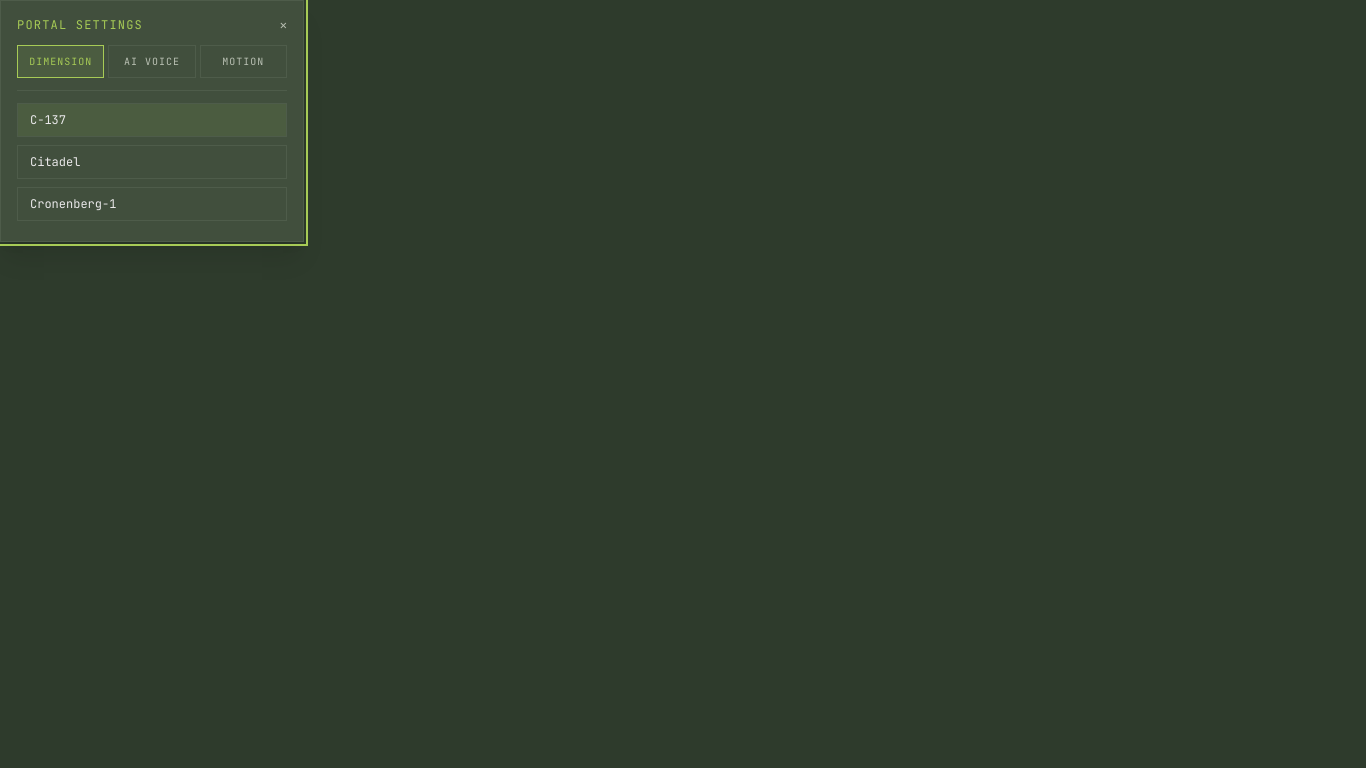
Test: SettingsPanel › turns portal transitions off, which are on by default
Click the tab "MOTION" at (243, 62), box [200, 45, 287, 78]
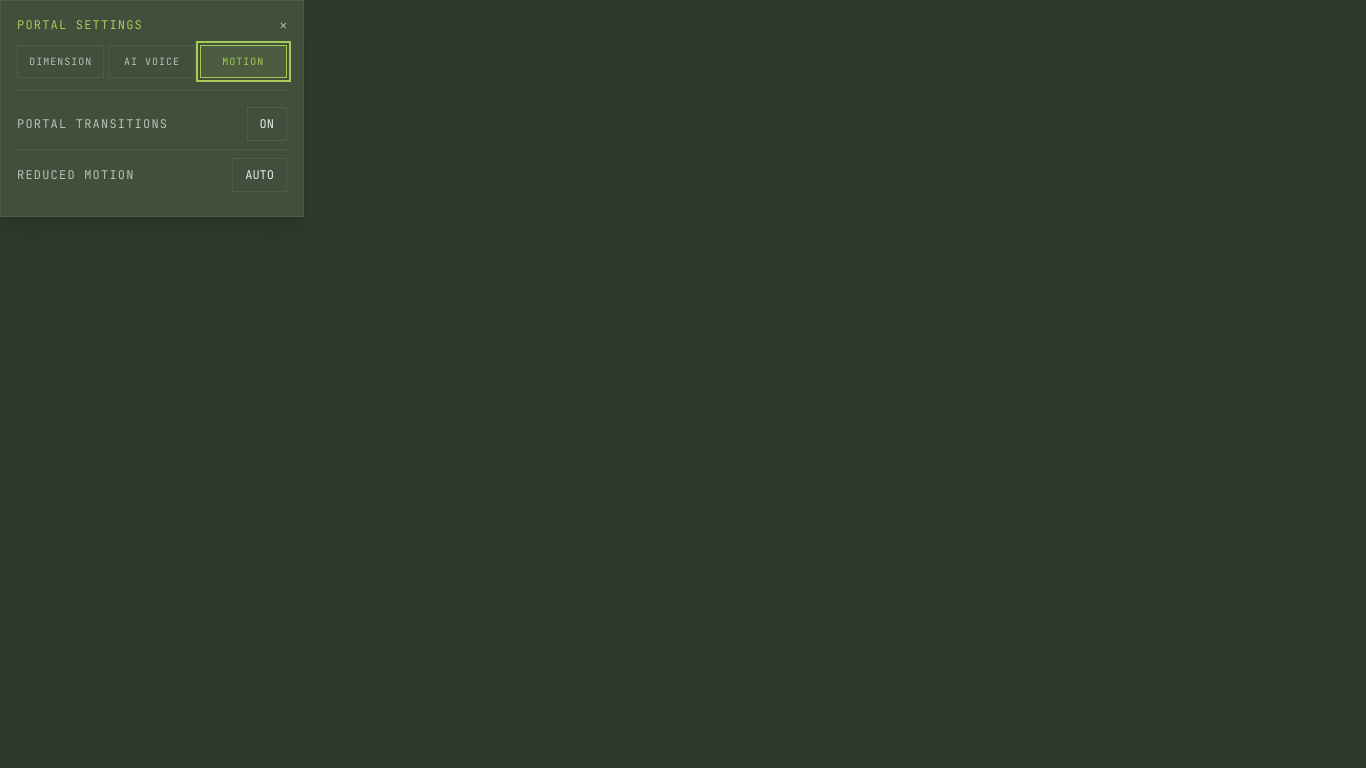
Expected: the button with aria-label "PORTAL TRANSITIONS" reads "ON"
Click the button with aria-label "PORTAL TRANSITIONS" at (267, 124), box [247, 107, 287, 141]
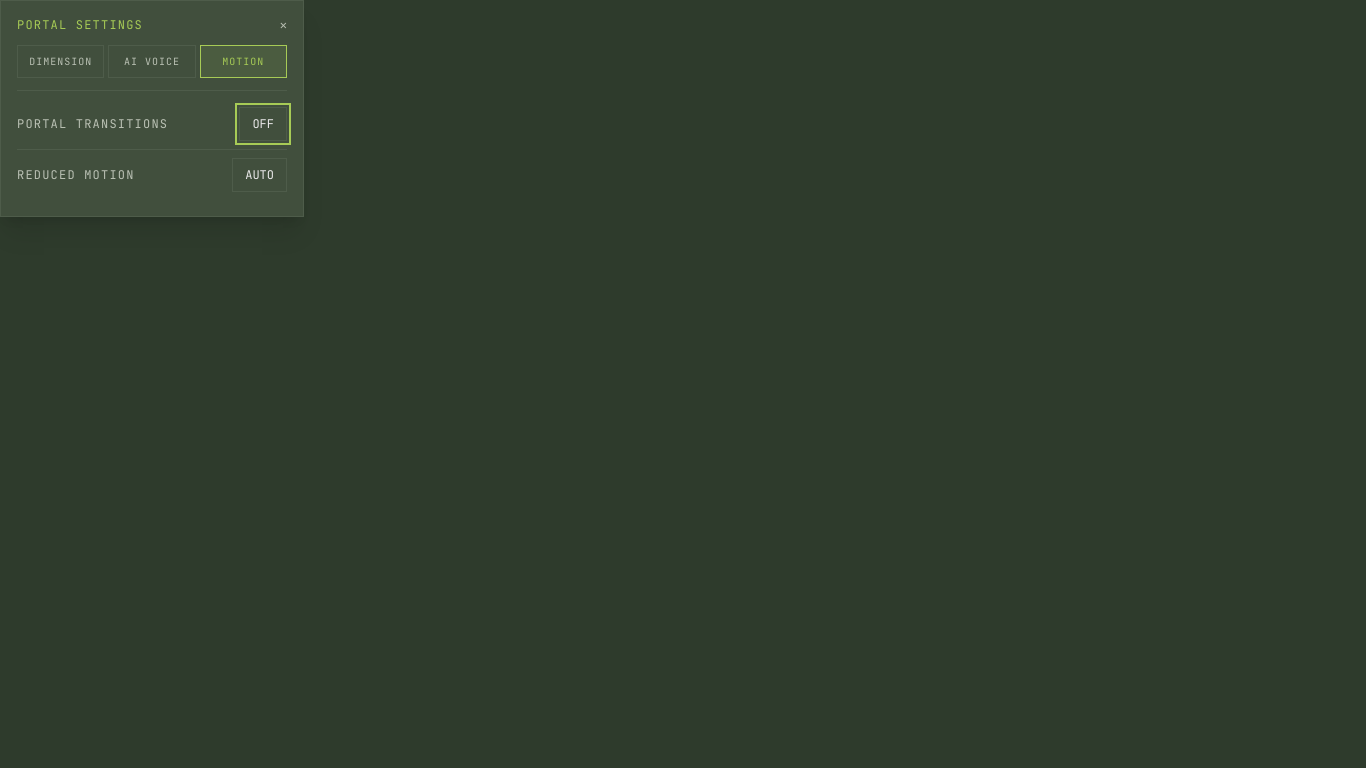
Expected: the button with aria-label "PORTAL TRANSITIONS" reads "OFF", [239, 107, 287, 141]
